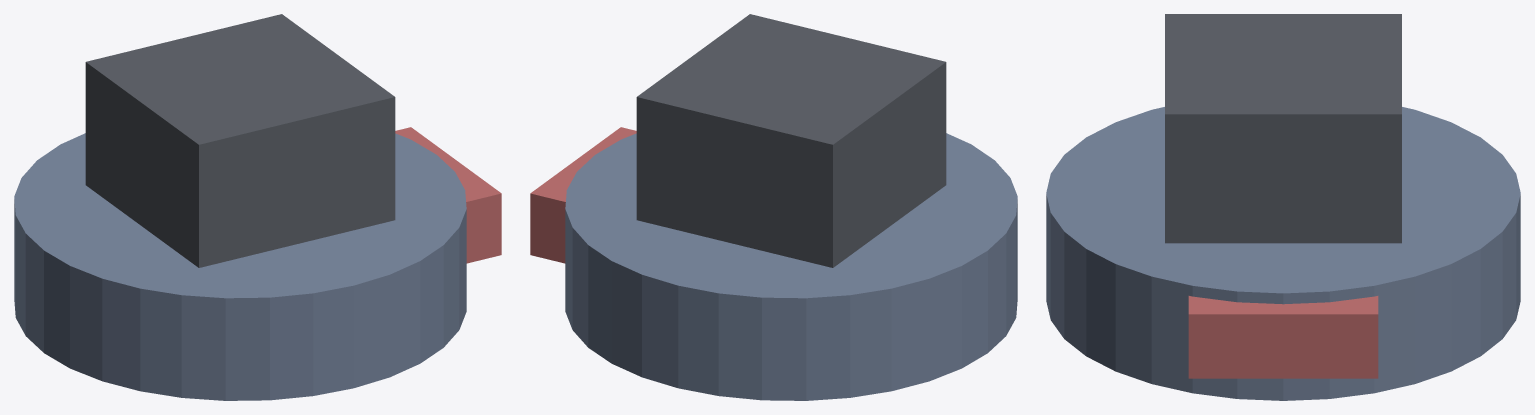
File: demo.glb
3 renders of one model, left to right at view 1: azimuth 30°, elevation 25°; view 2: azimuth 150°, elevation 25°; view 3: azimuth 270°, elevation 25°, orthographic. The views are drawn at different scales.
Parts seen in each view (by area): view 1: world; view 2: world; view 3: world.
Part boxes in pixels (box(x1,y1,x2,y2)): world: box(14, 14, 501, 400); world: box(530, 14, 1017, 400); world: box(1046, 14, 1520, 400).
Bounding box in the file's own units: 0.21 × 0.11 × 0.2.
